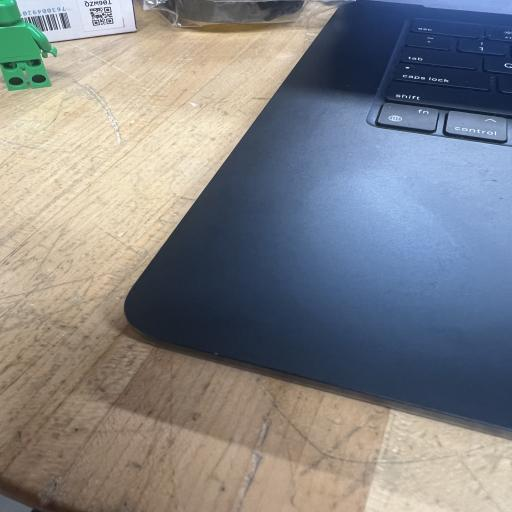green-lego-minifigure-detector: (0, 0, 57, 91)
